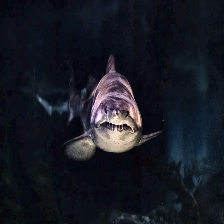shark: (62, 54, 145, 160)
